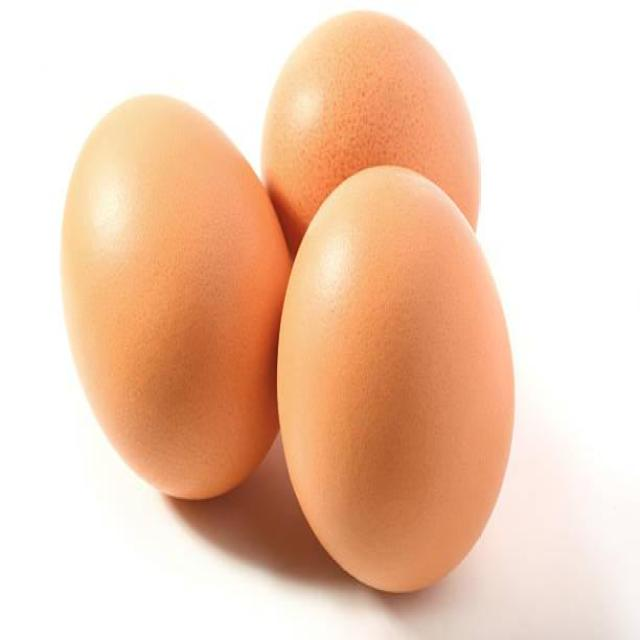Egg: (278, 166, 513, 591), (62, 96, 291, 497), (262, 11, 479, 256)
